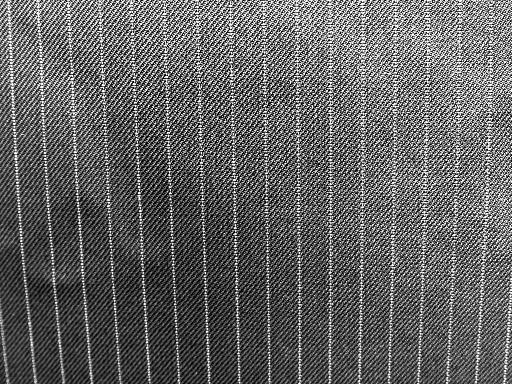fabric_perfect: (3, 0, 507, 380)
